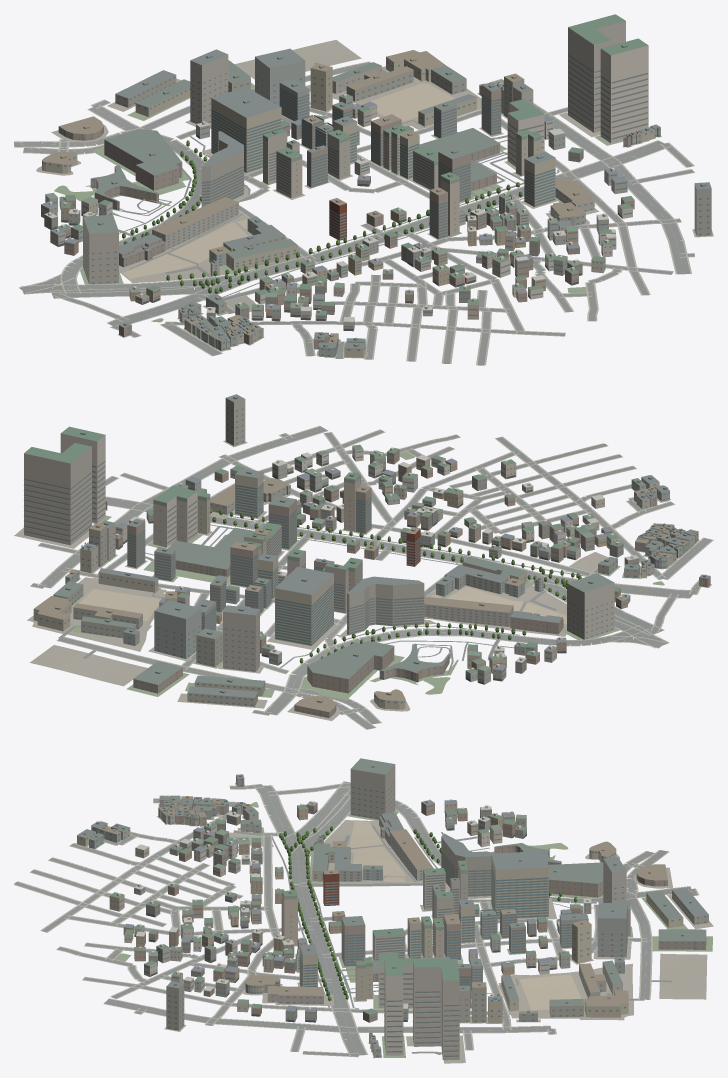
3 renders of one model, top to bottom at view 1: azimuth 30°, elevation 25°; view 2: azimuth 150°, elevation 25°; view 3: azimuth 270°, elevation 25°, orthographic. The views are drawn at different scales.
Parts seen in each view (by area): view 1: context-osm-buildings, context-osm-roads, context-villa-infill, context-osm-sidewalks, context-building-plinths; view 2: context-osm-buildings, context-osm-roads, context-villa-infill, context-building-plinths, context-osm-sidewalks; view 3: context-osm-buildings, context-osm-roads, context-villa-infill, context-building-plinths, context-osm-sidewalks.
Part boxes in pixels (left/top/right/bottom): context-osm-buildings: left=42, top=14, right=711, bottom=357; context-osm-roads: left=14, top=62, right=694, bottom=365; context-villa-infill: left=41, top=93, right=634, bottom=331; context-osm-sidewalks: left=14, top=61, right=694, bottom=365; context-building-plinths: left=36, top=40, right=713, bottom=358; context-osm-buildings: left=23, top=394, right=710, bottom=717; context-osm-roads: left=31, top=426, right=712, bottom=729; context-villa-infill: left=115, top=444, right=639, bottom=684; context-building-plinths: left=14, top=440, right=711, bottom=720; context-osm-sidewalks: left=30, top=425, right=713, bottom=729; context-osm-buildings: left=77, top=758, right=708, bottom=1060; context-osm-roads: left=14, top=781, right=697, bottom=1056; context-villa-infill: left=109, top=799, right=591, bottom=1022; context-building-plinths: left=76, top=783, right=713, bottom=1063; context-osm-sidewalks: left=14, top=781, right=698, bottom=1057.
Bounding box in the file's own units: 682 × 97.77 × 702.
